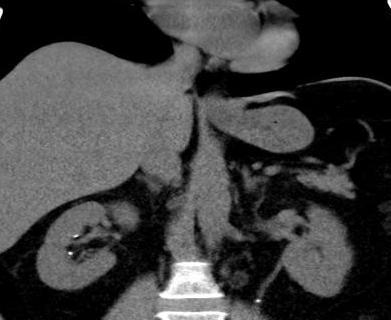Tas_Var: (66, 250, 74, 258), (71, 234, 79, 238)
